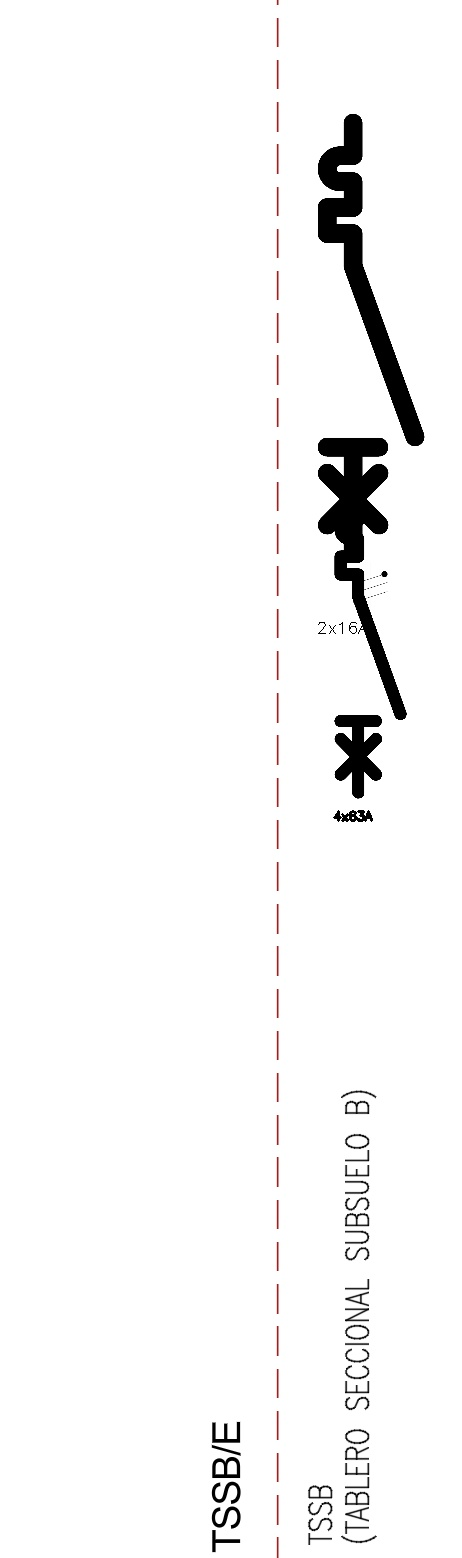interruptor_termomagnetico: (316, 112, 426, 562), (333, 491, 408, 800)
